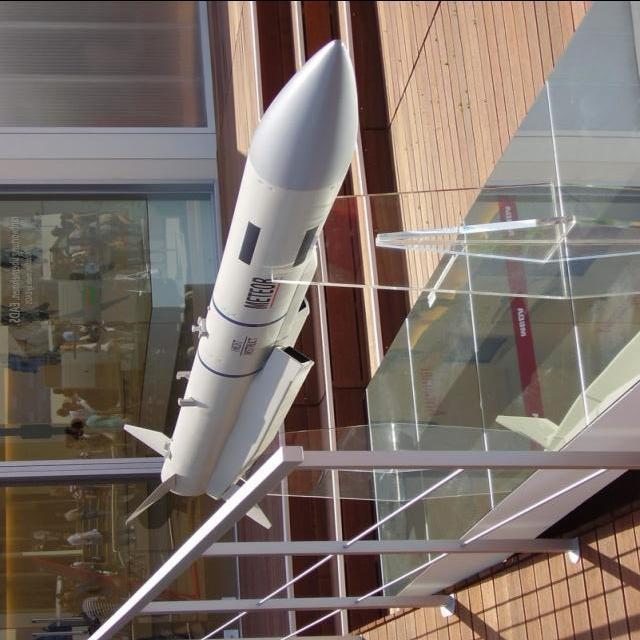missile: (127, 34, 360, 528)
